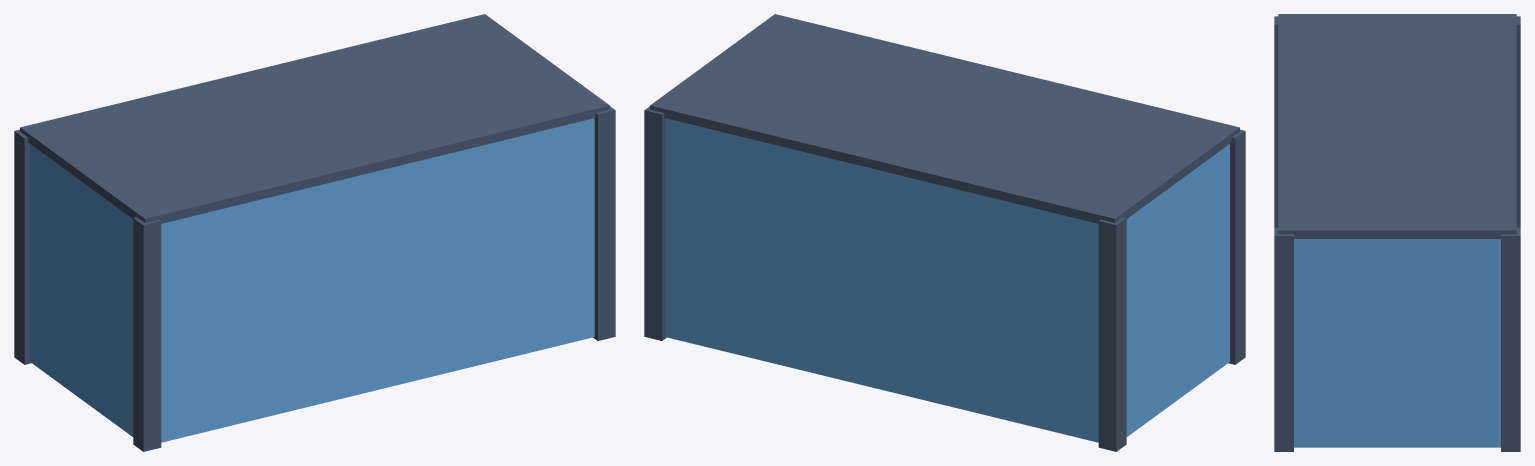
File: prop_shipping_container.glb
The picture shows the model from 3 angles, left to right: view 1: azimuth 30°, elevation 25°; view 2: azimuth 150°, elevation 25°; view 3: azimuth 270°, elevation 25°; orthographic projection. The views are drawn at different scales.
Parts seen in each view (by area): view 1: SM_Shipping_Container; view 2: SM_Shipping_Container; view 3: SM_Shipping_Container.
Boxes of the visible parts, left/top/right/bottom form: SM_Shipping_Container: left=14, top=14, right=615, bottom=451; SM_Shipping_Container: left=644, top=14, right=1245, bottom=451; SM_Shipping_Container: left=1274, top=14, right=1520, bottom=451.
Size of the model in its own units: 6.65 by 3.1 by 3.15.
